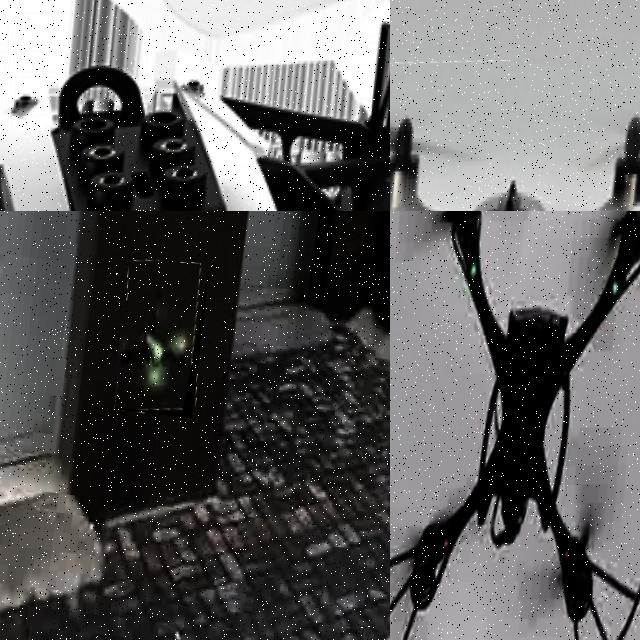0: (390, 211, 640, 640), (113, 256, 210, 418)
drone: (0, 0, 390, 211), (390, 35, 640, 211)
